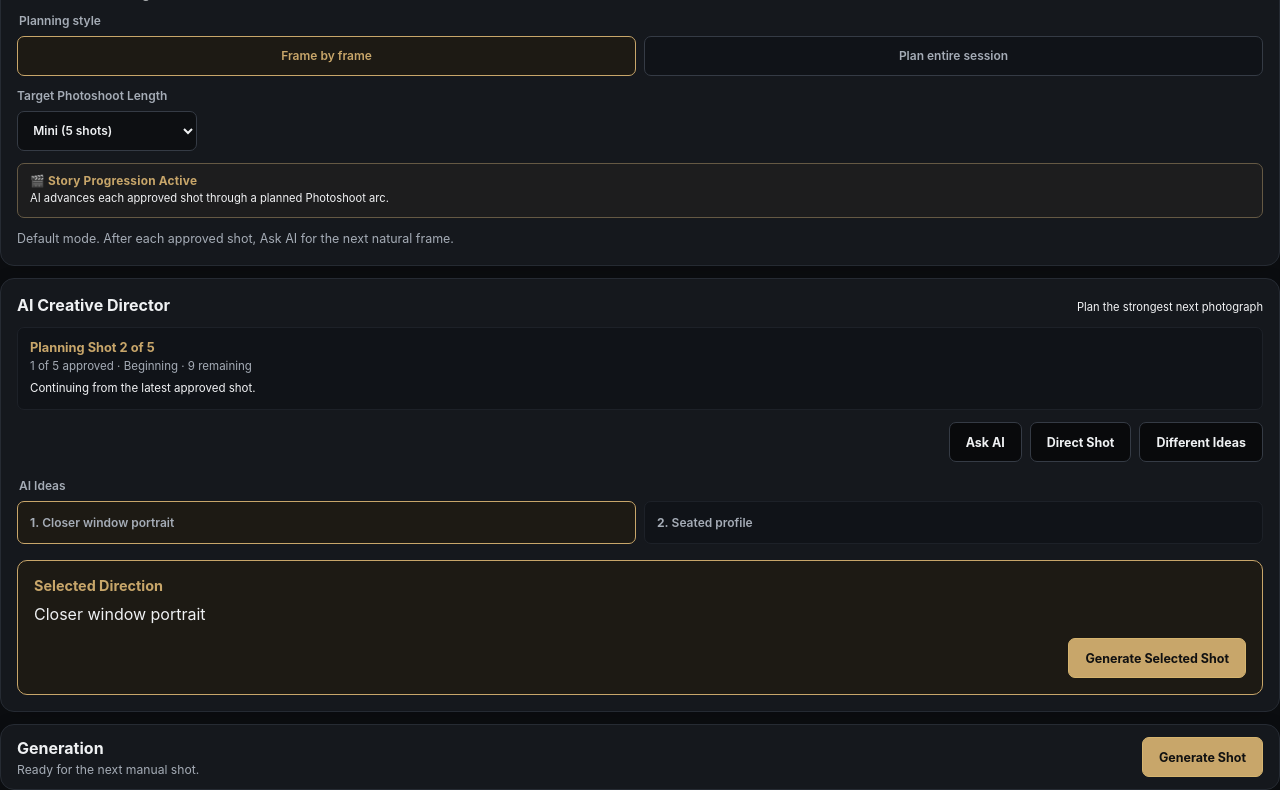
it: PhotoshootPage Phase 1 › keeps reviewed AI ideas available without exposing the persisted prompt
(page scrolled)
Expected: the radio button labelled "1. Closer window portrait" is checked, [30,515,174,530]
Click the button "Direct Shot": (1081, 442) [1030,422,1131,462]
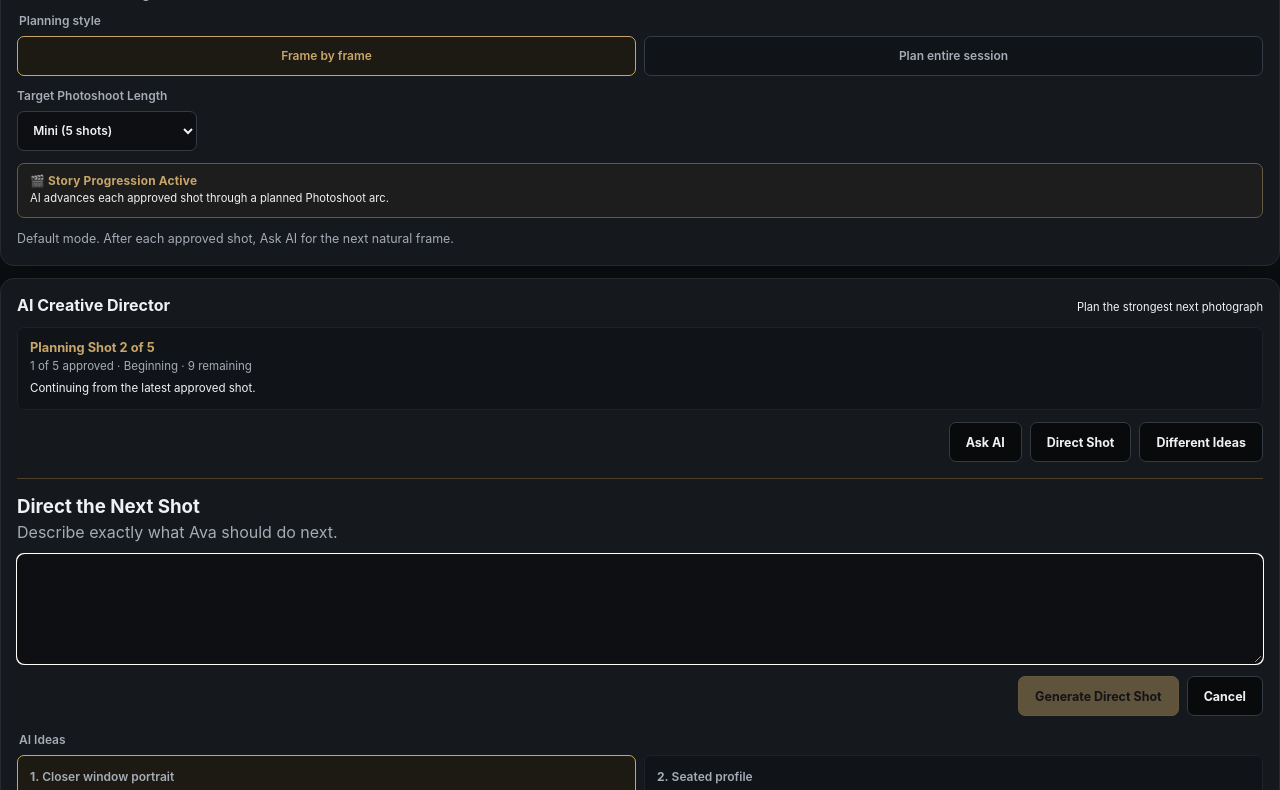
In the text box named "Direct the Next Shot prompt": (640, 609) [17,554,1263,664], type "Keep the camera close"
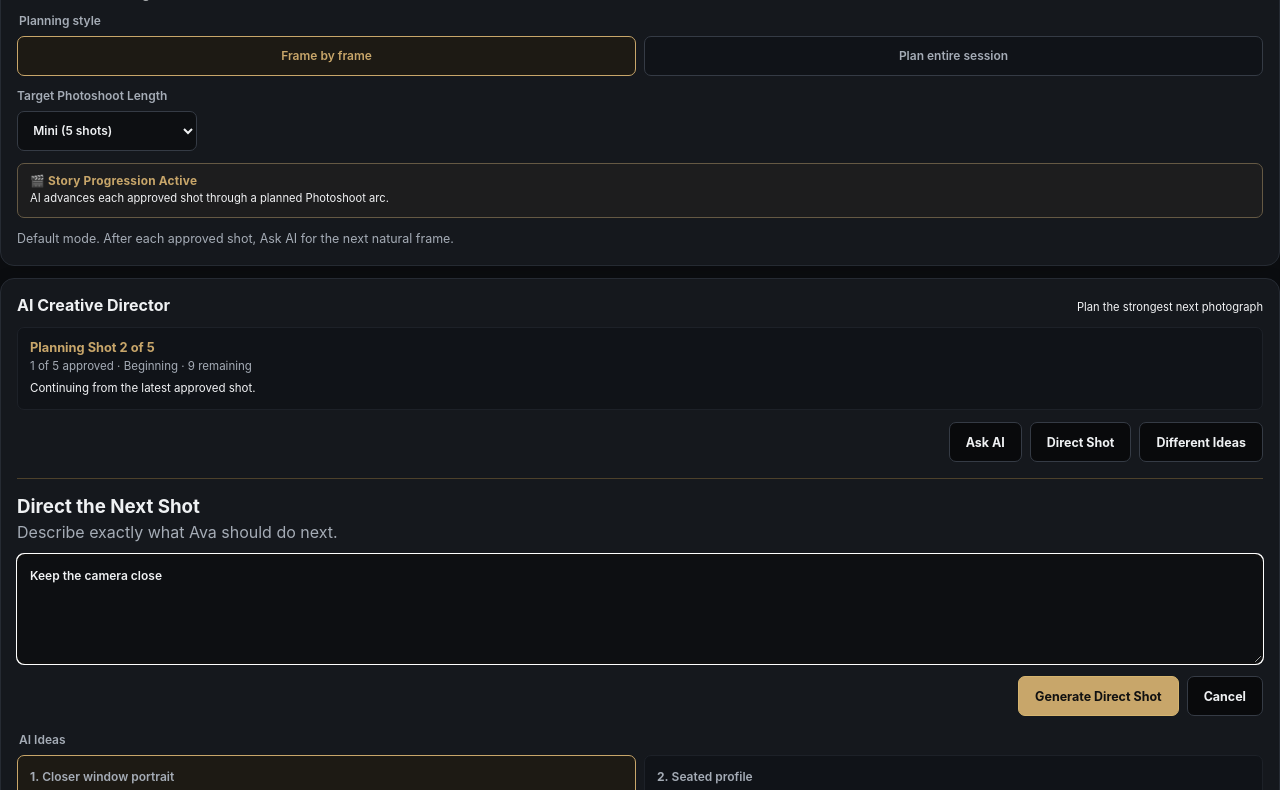
Click the button "Cancel": (1225, 696) [1187,676,1263,716]
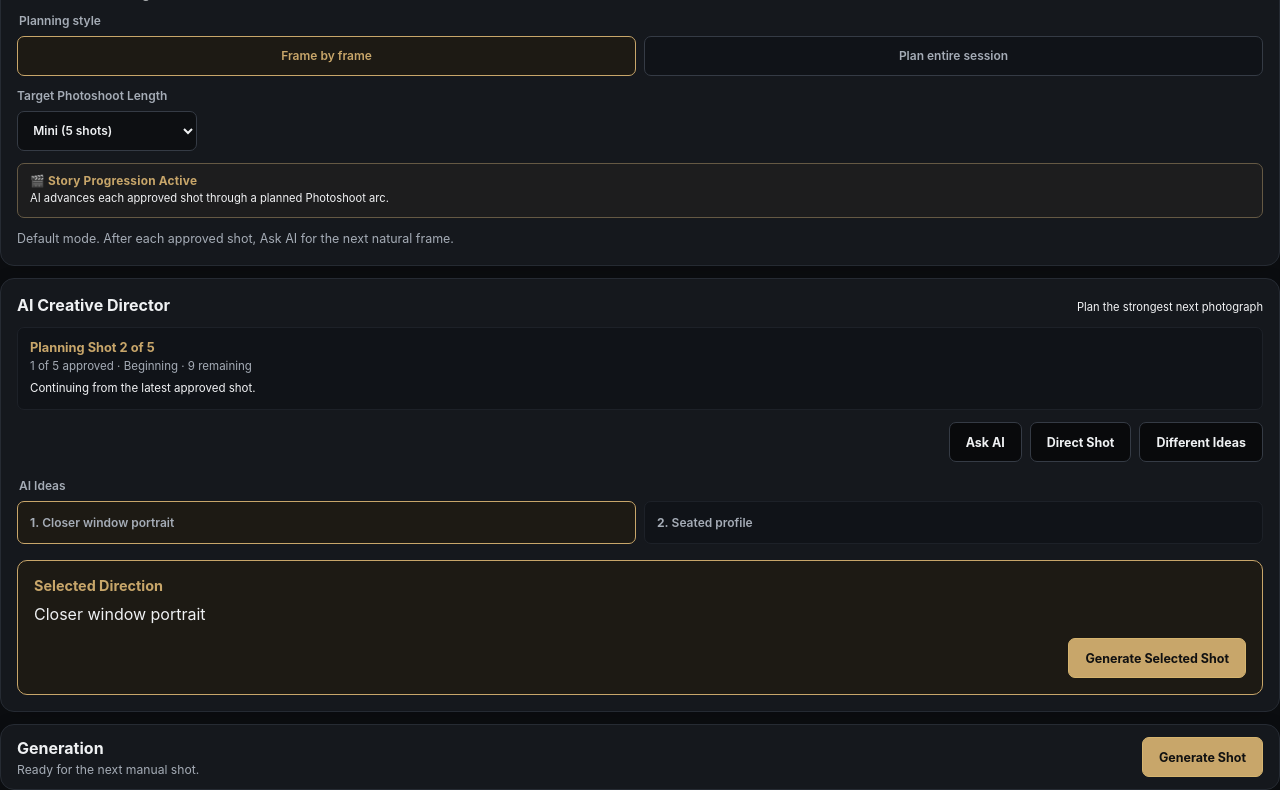
Expected: the field labelled "Direct the Next Shot prompt" is not shown
Click the button "Direct Shot": (1081, 442) [1030,422,1131,462]
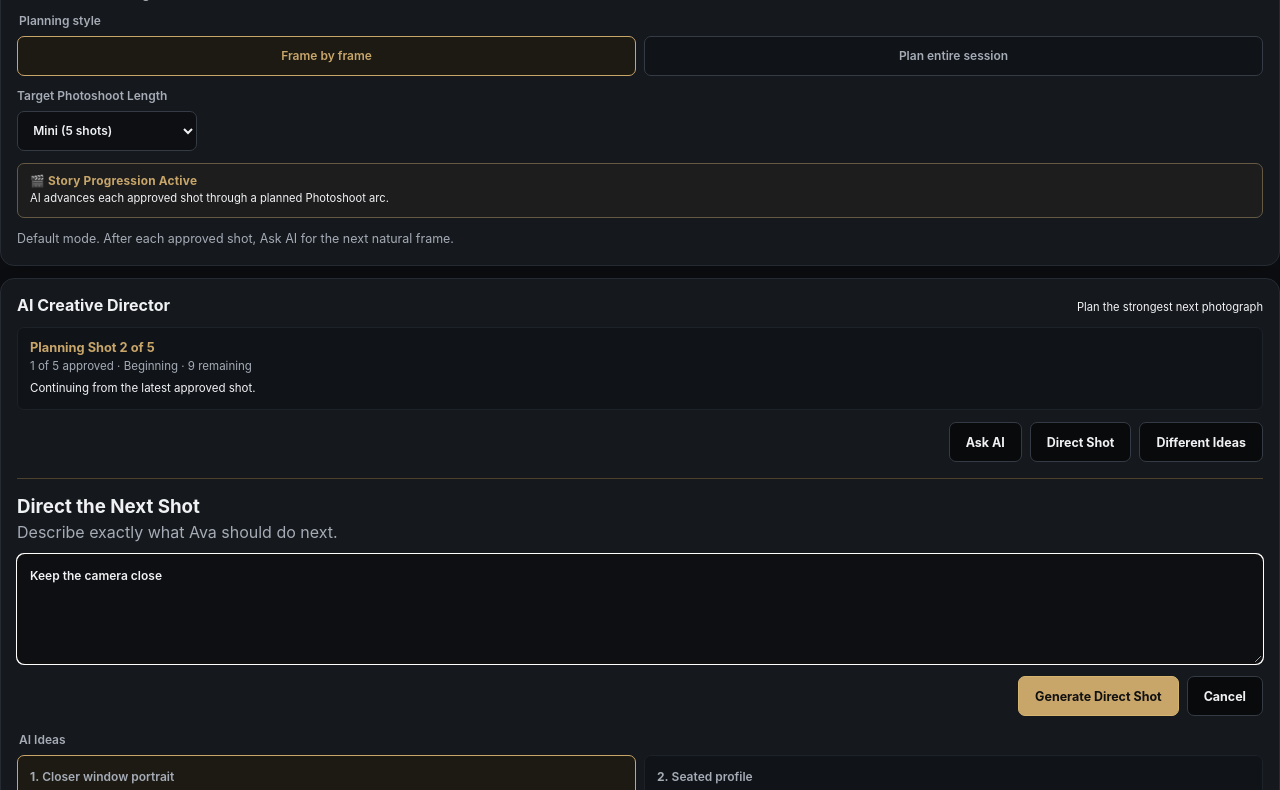
Expected: the radio button labelled "1. Closer window portrait" is checked, [30,769,174,784]
Expected: the text box named "Direct the Next Shot prompt" holds "Keep the camera close", [17,554,1263,664]
